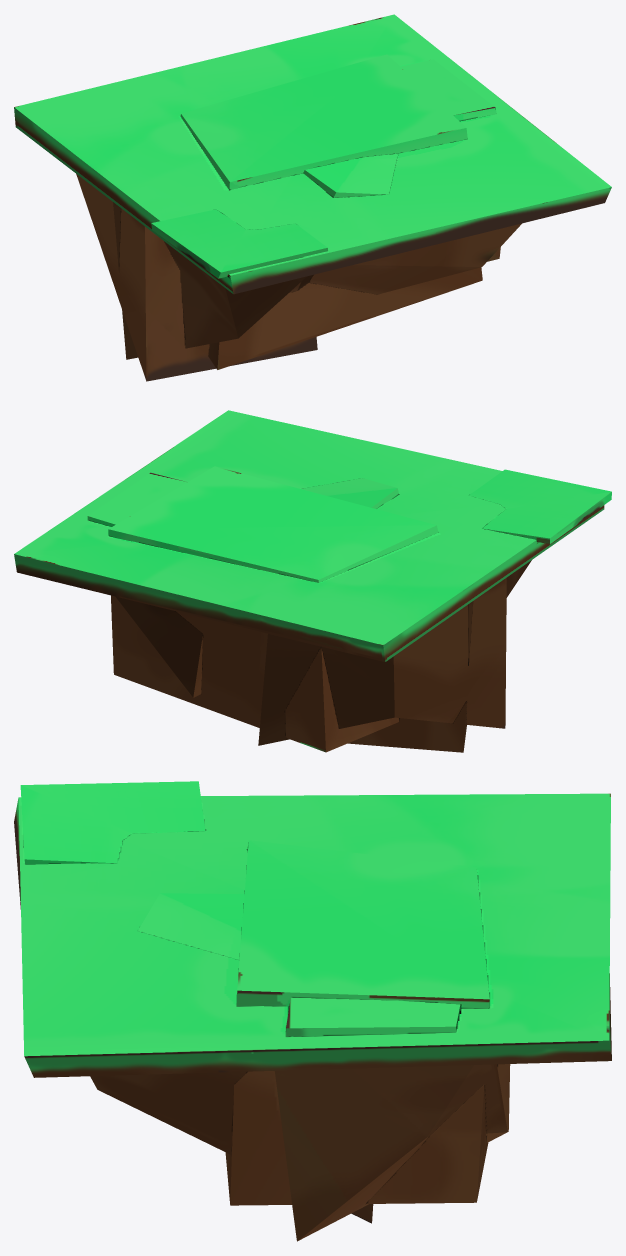
The model's file is Platform.fbx.
3 renders of one model, top to bottom at view 1: azimuth 30°, elevation 25°; view 2: azimuth 150°, elevation 25°; view 3: azimuth 270°, elevation 25°, orthographic. The views are drawn at different scales.
Parts seen in each view (by area): view 1: Platform; view 2: Platform; view 3: Platform.
Part boxes in pixels (box(x1,y1,x2,y2)): Platform: box(14, 14, 611, 381); Platform: box(14, 410, 611, 752); Platform: box(14, 781, 611, 1241).
Size of the model in its own units: 5.06 by 2.55 by 4.94.
Materials: 1 (1 with a texture image).
